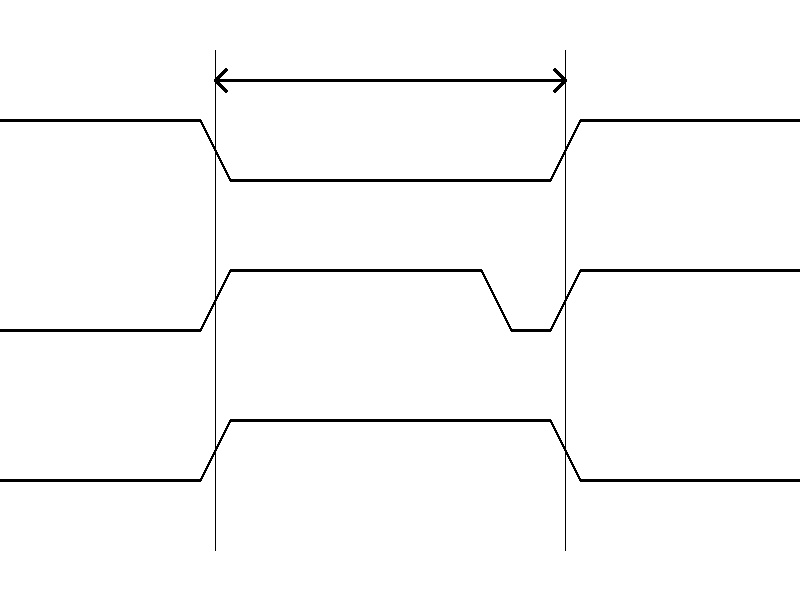double_arrow: (215, 65, 565, 95)
